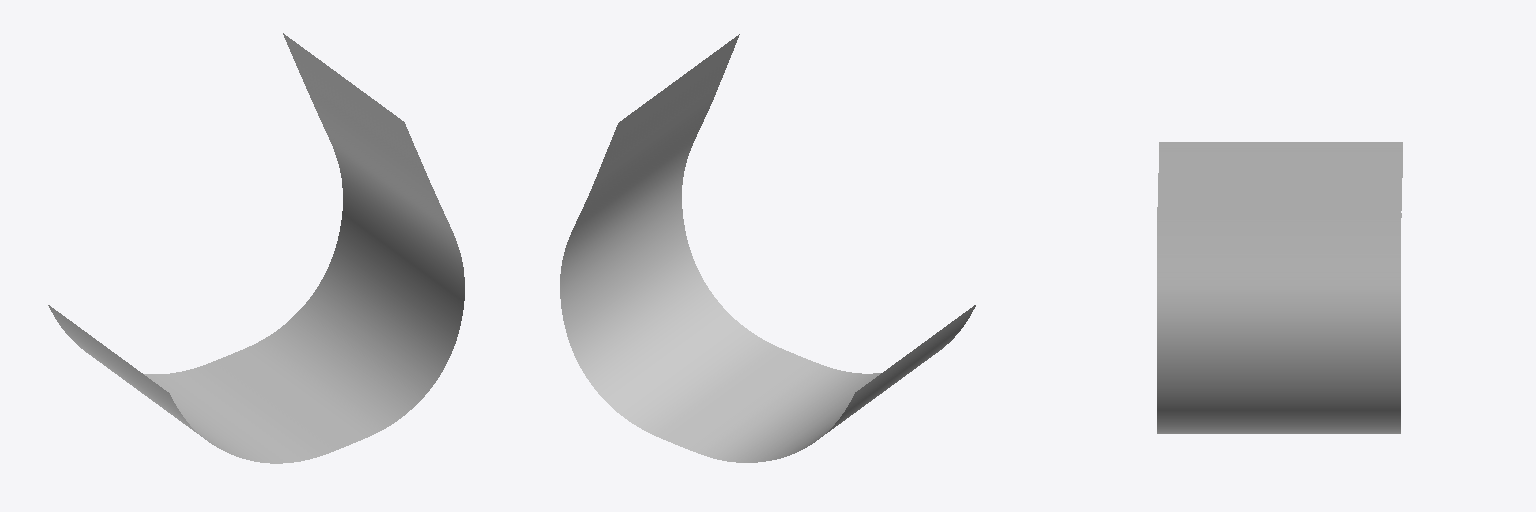
Rendered from Data_20100324_01_032.obj.
3 renders of one model, left to right at view 1: azimuth 30°, elevation 25°; view 2: azimuth 150°, elevation 25°; view 3: azimuth 270°, elevation 25°, orthographic.
Visible parts, largest first — view 1: mesh; view 2: mesh; view 3: mesh.
Part boxes in pixels (x1,y1,x2,y2): mesh: (48,33,464,463); mesh: (560,34,975,462); mesh: (1157,142,1402,433).
Bounding box in the file's own units: 9479 × 9621 × 6867.